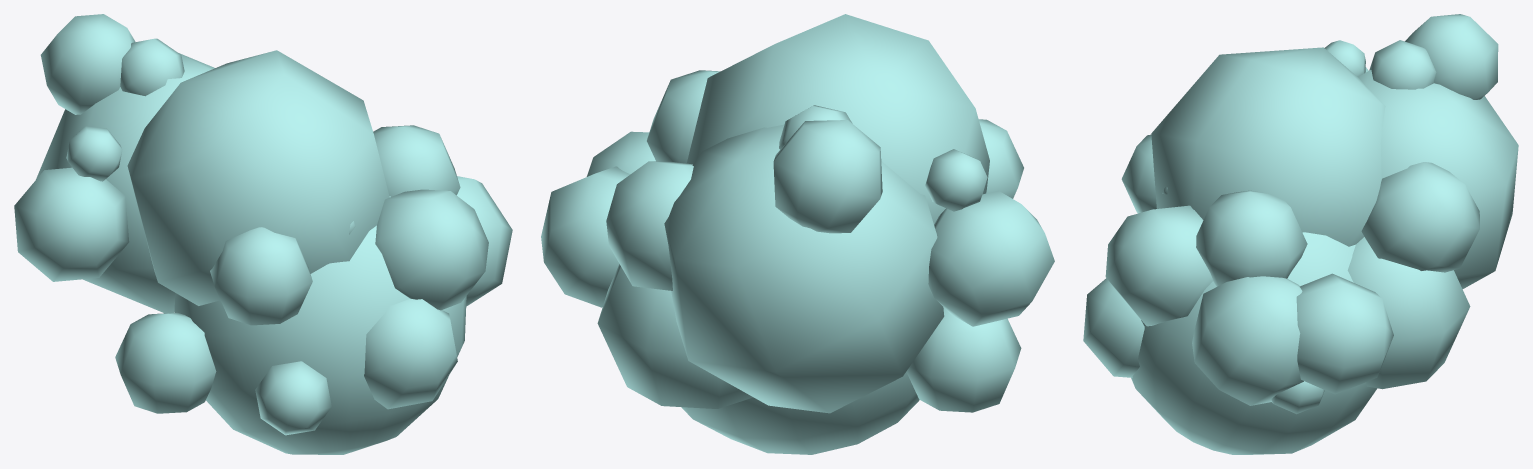
The model's file is p_renderable_foamgun_bubbles_pose2.fbx.
3 renders of one model, left to right at view 1: azimuth 30°, elevation 25°; view 2: azimuth 150°, elevation 25°; view 3: azimuth 270°, elevation 25°, orthographic. The views are drawn at different scales.
Visible parts, largest first — view 1: Sphere.003; view 2: Sphere.003; view 3: Sphere.003.
Boxes of the visible parts, left/top/right/bottom form: Sphere.003: left=14, top=14, right=512, bottom=454; Sphere.003: left=541, top=14, right=1054, bottom=454; Sphere.003: left=1083, top=14, right=1518, bottom=454.
Bounding box in the file's own units: 2.42 × 2.01 × 2.17.
